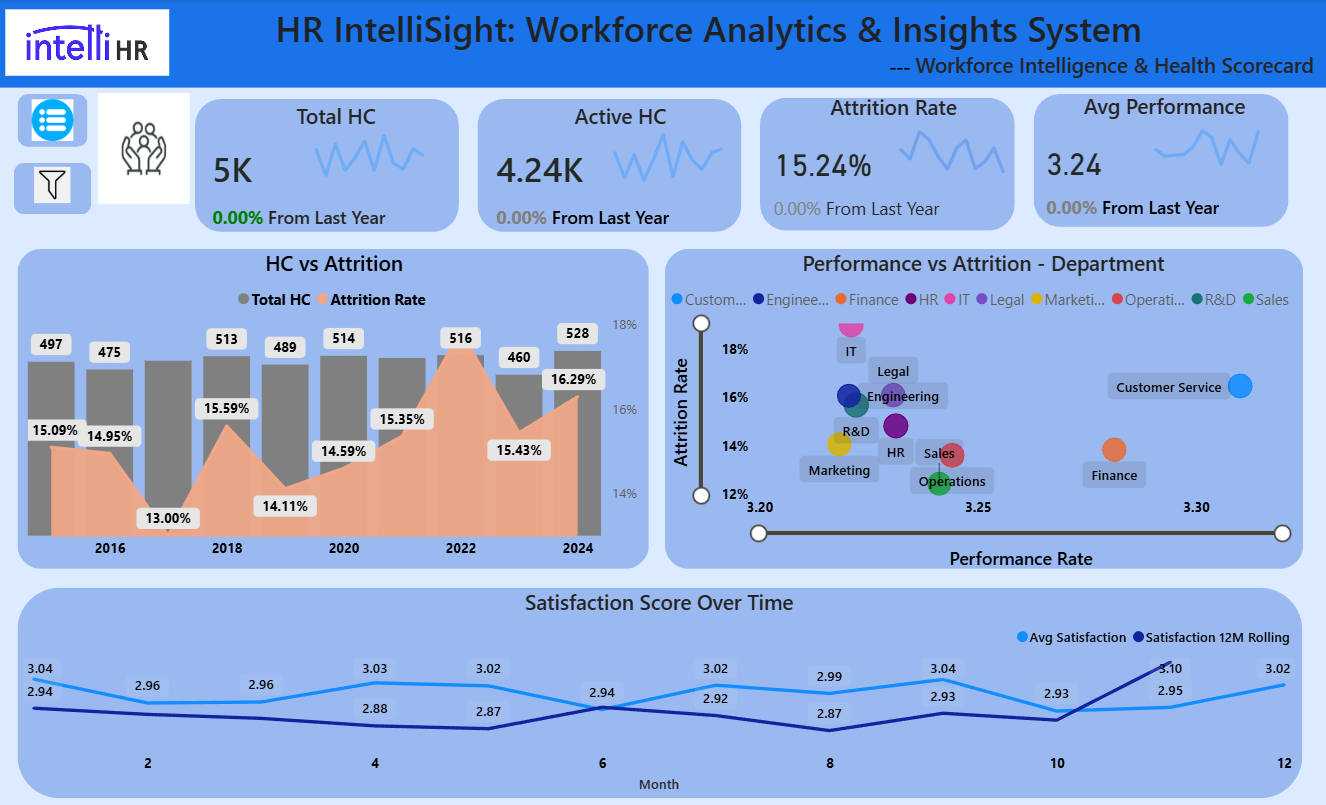

The page's visual inventory and layout, read from the dashboard file:
{"tool":"powerbi","page":{"name":"Workforce Heath Planning","canvas":[1200,730],"ordinal":7},"visuals":[{"type":"shape","box":[0,0,1200,80],"z":0},{"type":"shape","box":[15,85,100,65],"z":0,"group":"g3"},{"type":"image","box":[23.8,85,82.5,65],"z":0,"group":"g2"},{"type":"group","id":"g1","title":"Group 3","box":[16.2,168.8,100,65],"z":0,"group":"g4"},{"type":"shape","box":[16.2,168.8,100,65],"z":0,"group":"g1"},{"type":"group","id":"g2","title":"Group 2","box":[23.8,85,82.5,65],"z":1000,"group":"g3"},{"type":"shape","box":[781.2,91.2,185,112.5],"z":1000},{"type":"image","box":[16.2,168.8,100,53.8],"z":1000,"group":"g4"},{"type":"shape","box":[562.5,90,191.2,111.2],"z":2000},{"type":"shape","box":[350,90,188.8,112.5],"z":3000},{"type":"shape","box":[998.8,91.2,180,111.2],"z":4000},{"type":"textbox","box":[0,0,1280,80],"z":5000},{"type":"shape","box":[16.2,242.5,570,432.5],"z":6000},{"type":"shape","box":[600,242.5,600,432.5],"z":7000},{"type":"shape","box":[137.5,91.2,185,112.5],"z":8000},{"type":"image","box":[0,5,157.5,70],"z":9000},{"type":"card","title":"Total HC","fields":{"Values":["01_Employee_Master_Fact.Total HC"]},"box":[138.8,93.8,183.8,110],"z":10000},{"type":"card","title":"Active HC","fields":{"Values":["01_Employee_Master_Fact.Active HC"]},"box":[355,91.2,183.8,110],"z":11000},{"type":"card","title":"Attrition Rate","fields":{"Values":["01_Employee_Master_Fact.Attrition Rate"]},"box":[552.5,91.2,201.2,110],"z":12000},{"type":"card","title":"Avg Salary","fields":{"Values":["01_Employee_Master_Fact.Avg Salary"]},"box":[781.2,93.8,185,110],"z":13000},{"type":"card","title":"Avg Satisfaction","fields":{"Values":["01_Employee_Master_Fact.Avg Satisfaction"]},"box":[998.8,91.2,180,110],"z":14000},{"type":"lineStackedColumnComboChart","title":"HC vs Attrition","fields":{"Y":["01_Employee_Master_Fact.Total HC"],"Category":["Calender.Year"],"Y2":["01_Employee_Master_Fact.Attrition Rate"]},"box":[20,241.2,562.5,432.5],"z":15000},{"type":"scatterChart","title":"Performance vs Attrition - Department","fields":{"X":["01_Employee_Master_Fact.Average Performance"],"Series":["01_Employee_Master_Fact.Department"],"Y":["01_Employee_Master_Fact.Attrition Rate"],"Size":["01_Employee_Master_Fact.Total HC"]},"box":[600,242.5,600,431.2],"z":16000},{"type":"group","id":"g3","title":"Group 3","box":[15,85,100,65],"z":18000},{"type":"group","id":"g4","title":"Group 4","box":[16.2,168.8,100,65],"z":19000}]}

Visuals, with their boxes in screenshot pixels (x1, y1, x2, y2), scaled from the page's 1200x730 canvas onto the 1326x805 screenshot:
shape: l=0, t=0, r=1325, b=88
shape: l=17, t=94, r=127, b=165
image: l=26, t=94, r=117, b=165
"Group 3" group: l=18, t=186, r=128, b=258
shape: l=18, t=186, r=128, b=258
"Group 2" group: l=26, t=94, r=117, b=165
shape: l=863, t=101, r=1068, b=225
image: l=18, t=186, r=128, b=245
shape: l=622, t=99, r=833, b=222
shape: l=387, t=99, r=595, b=223
shape: l=1104, t=101, r=1303, b=223
textbox: l=0, t=0, r=1325, b=88
shape: l=18, t=267, r=648, b=744
shape: l=663, t=267, r=1325, b=744
shape: l=152, t=101, r=356, b=225
image: l=0, t=6, r=174, b=83
"Total HC" card: l=153, t=103, r=356, b=225
"Active HC" card: l=392, t=101, r=595, b=222
"Attrition Rate" card: l=611, t=101, r=833, b=222
"Avg Salary" card: l=863, t=103, r=1068, b=225
"Avg Satisfaction" card: l=1104, t=101, r=1303, b=222
"HC vs Attrition" lineStackedColumnComboChart: l=22, t=266, r=644, b=743
"Performance vs Attrition - Department" scatterChart: l=663, t=267, r=1325, b=743
"Group 3" group: l=17, t=94, r=127, b=165
"Group 4" group: l=18, t=186, r=128, b=258
